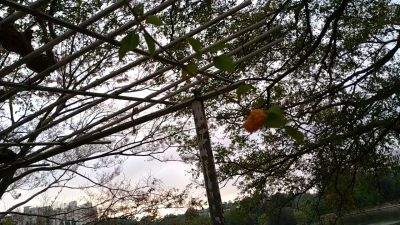eggs: (243, 108, 268, 134)
